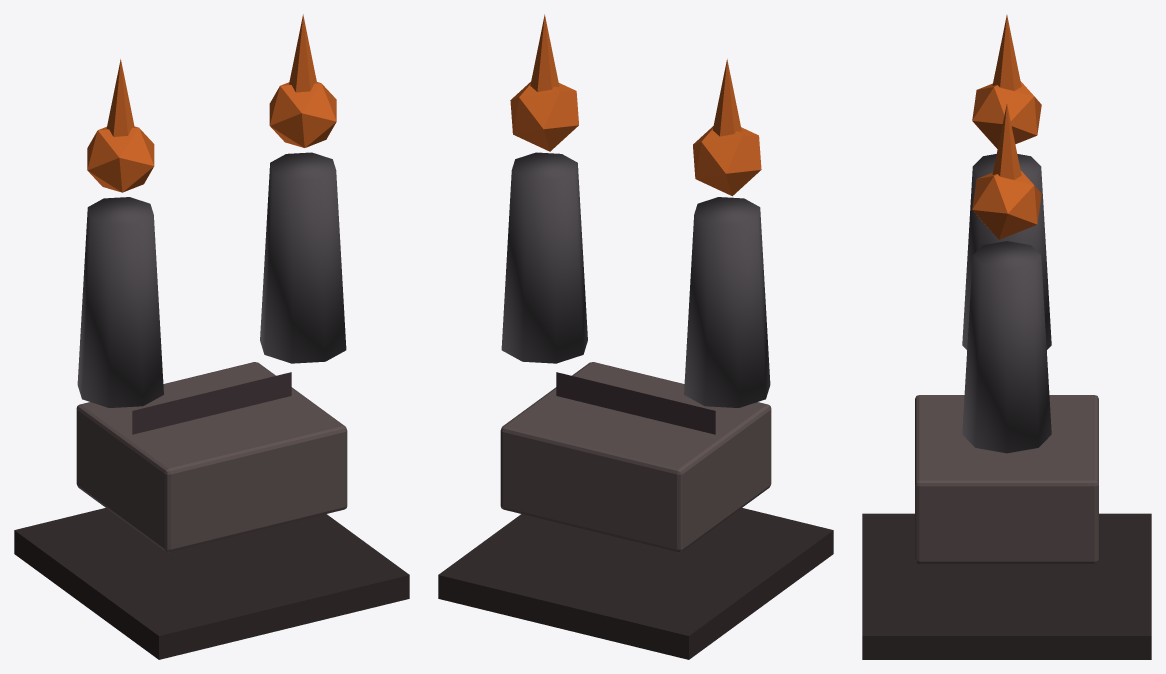
Rendered from ember_cinder_pit.glb.
3 renders of one model, left to right at view 1: azimuth 30°, elevation 25°; view 2: azimuth 150°, elevation 25°; view 3: azimuth 270°, elevation 25°, orthographic.
Parts seen in each view (by area): view 1: ember_cinder_pit; view 2: ember_cinder_pit; view 3: ember_cinder_pit.
Boxes of the visible parts, x1,y1,x2,y2 form: ember_cinder_pit: (14,14,409,659); ember_cinder_pit: (438,14,833,659); ember_cinder_pit: (862,15,1151,659).
Bounding box in the file's own units: 22.8 × 45.28 × 22.
